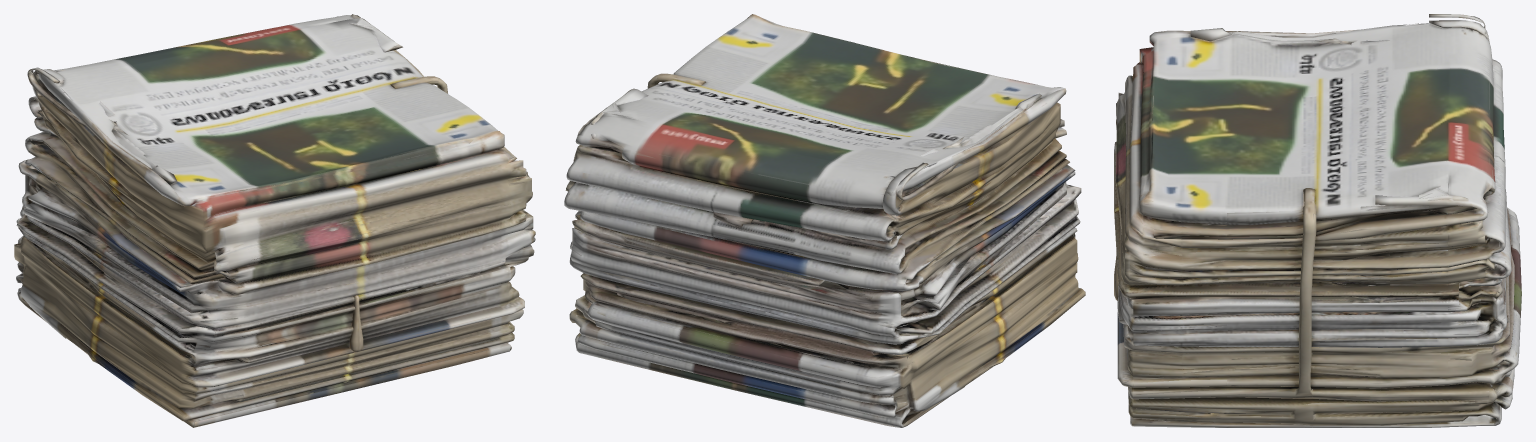
File: Newspaper_Bundle_0213164107_texture.fbx
3 renders of one model, left to right at view 1: azimuth 30°, elevation 25°; view 2: azimuth 150°, elevation 25°; view 3: azimuth 270°, elevation 25°, orthographic. The views are drawn at different scales.
Parts seen in each view (by area): view 1: Mesh_0; view 2: Mesh_0; view 3: Mesh_0.
Part boxes in pixels (bbox=[...]): Mesh_0: bbox=[14, 14, 535, 427]; Mesh_0: bbox=[564, 14, 1085, 427]; Mesh_0: bbox=[1114, 14, 1521, 427].
Bounding box in the file's own units: 200 × 128 × 186.
Materials: 1 (1 with a texture image).
